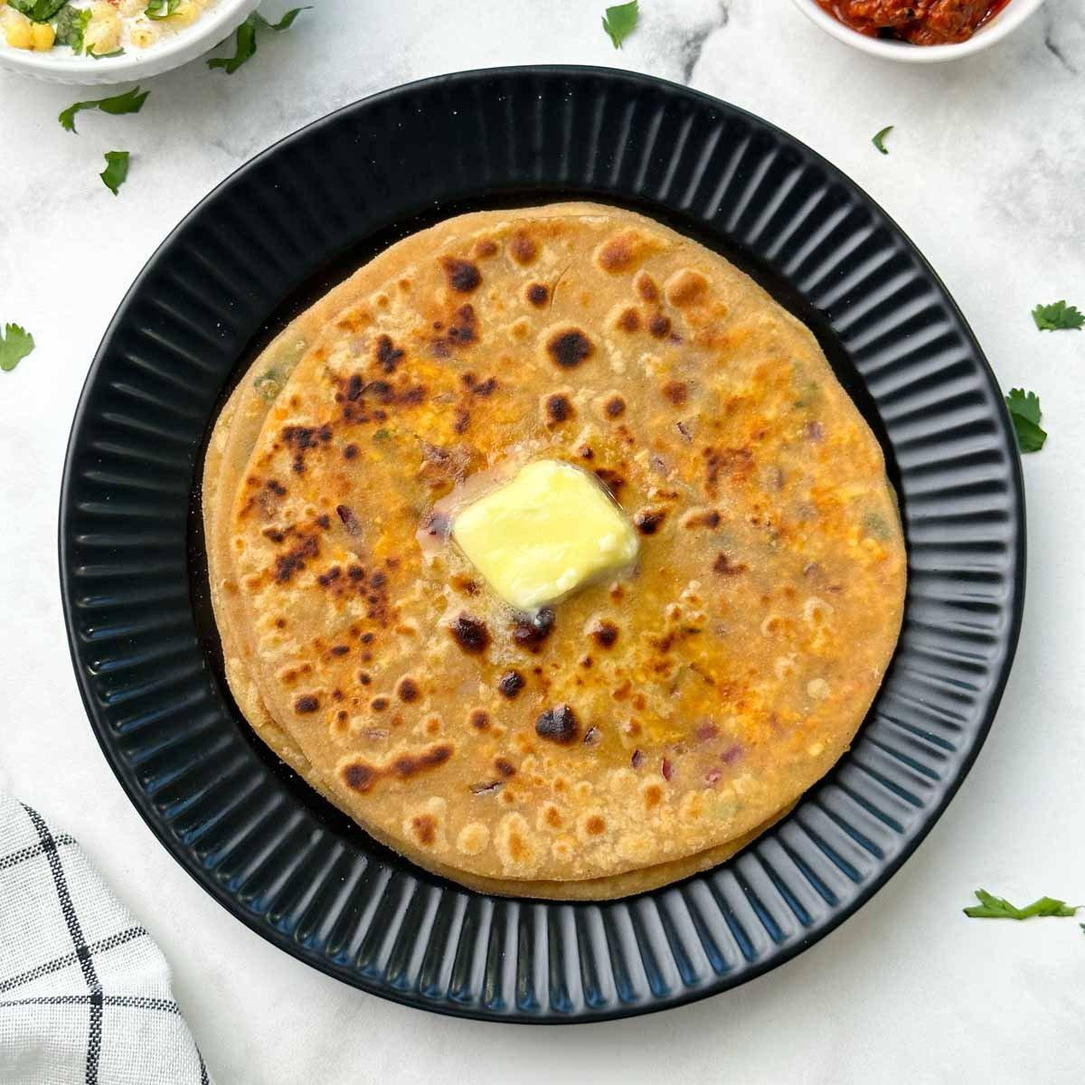paratha: (230, 296, 915, 846)
